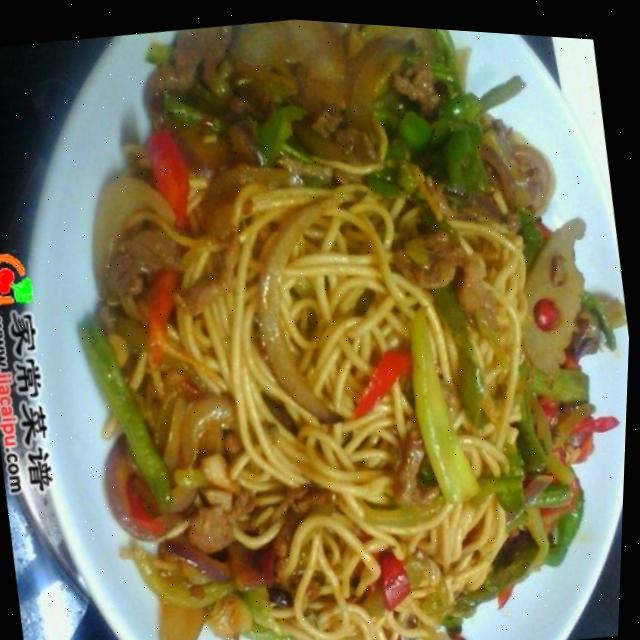面条主食: (0, 1, 640, 640)
